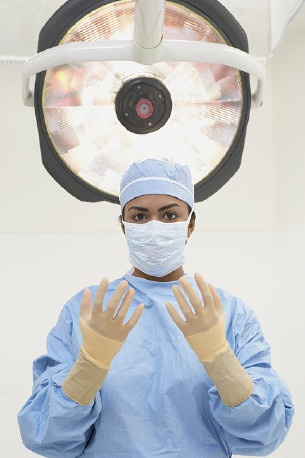Mask: (120, 199, 199, 278)
